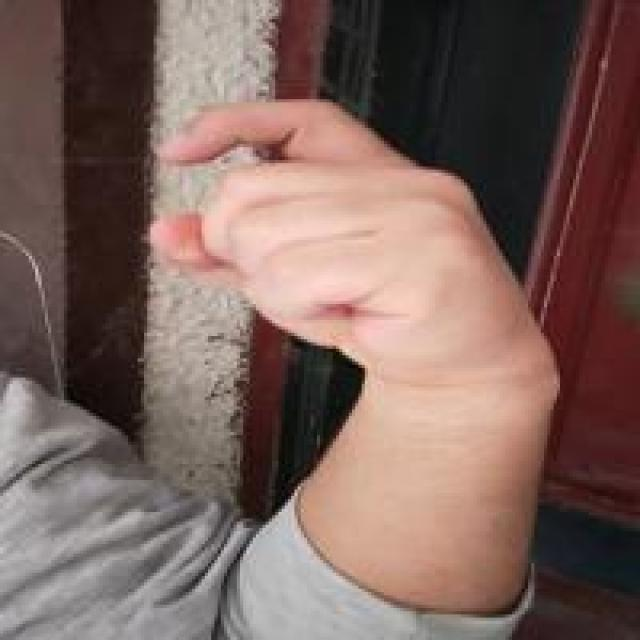X: (144, 88, 563, 379)
